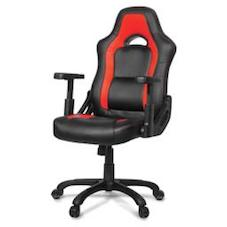chair: (28, 7, 197, 220)
